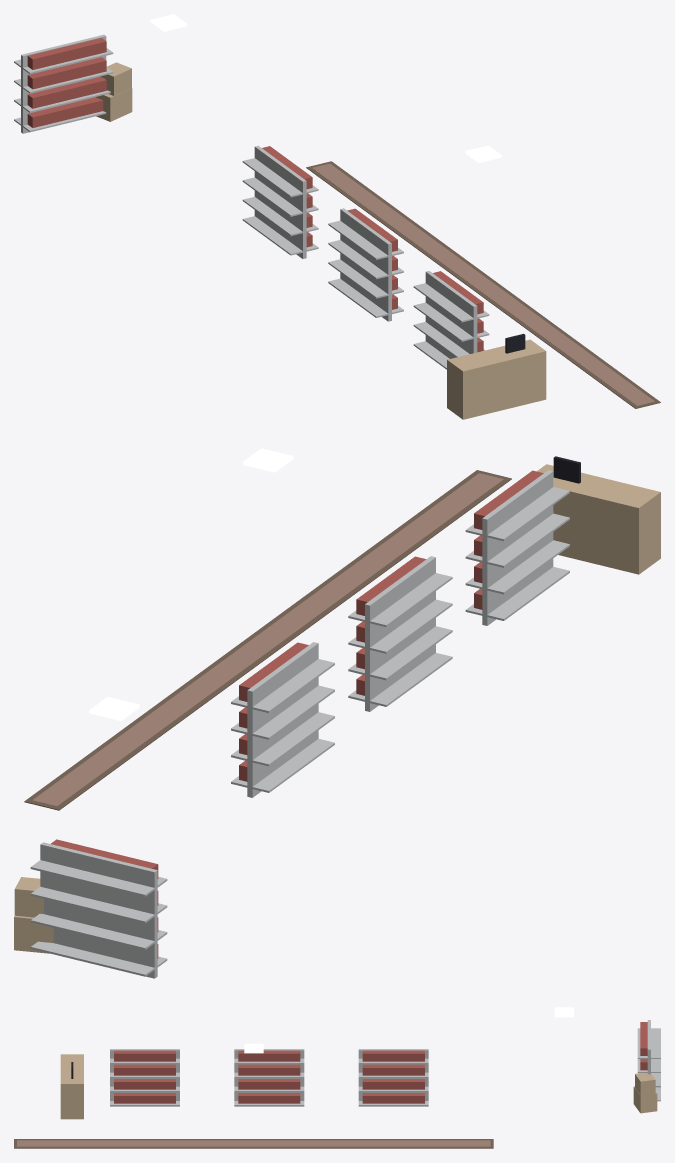
File: fine-s0.glb
The picture shows the model from 3 angles, top to bottom: view 1: azimuth 30°, elevation 25°; view 2: azimuth 150°, elevation 25°; view 3: azimuth 270°, elevation 25°; orthographic projection. The views are drawn at different scales.
Visible parts, largest first — view 1: soft-s0, shelving.000, shop-counter.000, shelf.000, shelf.001, shelf.002, cardboard-box.000; view 2: soft-s0, shelving.000, shelf.001, shelf.002, shelf.000, shop-counter.000, cardboard-box.000, ceiling-lamp.000, ceiling-lamp.001; view 3: soft-s0, shelf.000, shelf.002, shelf.001, shop-counter.000, shelving.000, cardboard-box.000.
Part boxes in pixels (x1,y1,x2,y2): soft-s0: [306, 161, 660, 408]; shelving.000: [14, 34, 113, 133]; shop-counter.000: [447, 333, 546, 419]; shelf.000: [242, 145, 318, 258]; shelf.001: [328, 208, 403, 321]; shelf.002: [413, 271, 489, 369]; cardboard-box.000: [96, 62, 132, 121]; soft-s0: [24, 470, 511, 810]; shelving.000: [30, 839, 167, 978]; shelf.001: [348, 556, 452, 711]; shelf.002: [465, 470, 569, 625]; shelf.000: [231, 642, 334, 797]; shop-counter.000: [537, 456, 660, 574]; cardboard-box.000: [14, 877, 53, 953]; ceiling-lamp.000: [243, 448, 293, 472]; ceiling-lamp.001: [89, 697, 139, 720]; soft-s0: [14, 1139, 493, 1148]; shelf.000: [358, 1049, 428, 1106]; shelf.002: [110, 1049, 179, 1106]; shelf.001: [234, 1049, 304, 1106]; shop-counter.000: [60, 1054, 83, 1119]; shelving.000: [637, 1020, 660, 1101]; cardboard-box.000: [633, 1073, 657, 1113].
Bounding box in the file's own units: 4.39 × 2.74 × 16.64.
